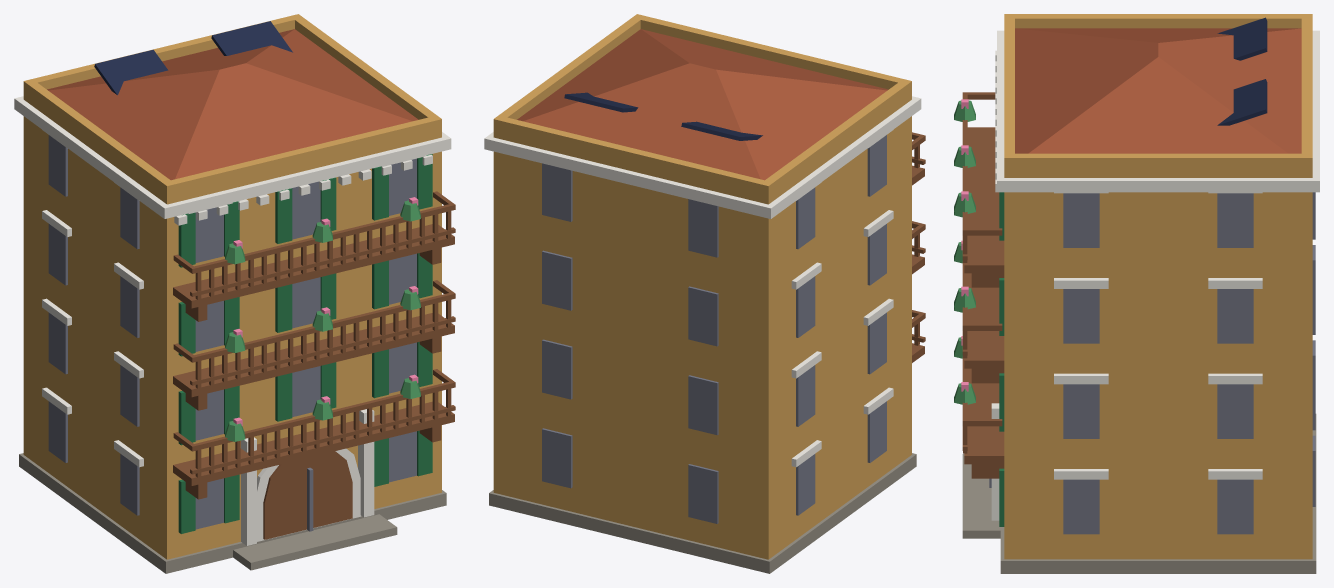
The model's file is house-1x1-4f-colonial-a-solar.glb.
3 views of the same model, side by side, from view 1: azimuth 30°, elevation 25°; view 2: azimuth 150°, elevation 25°; view 3: azimuth 270°, elevation 25° (orthographic). The views are drawn at different scales.
Visible parts, largest first — view 1: house-1x1-4f-colonial-a-solar; view 2: house-1x1-4f-colonial-a-solar; view 3: house-1x1-4f-colonial-a-solar.
Part boxes in pixels (left/top/right/bottom): house-1x1-4f-colonial-a-solar: left=14, top=14, right=455, bottom=573; house-1x1-4f-colonial-a-solar: left=484, top=14, right=925, bottom=573; house-1x1-4f-colonial-a-solar: left=954, top=14, right=1319, bottom=573.
Bounding box in the file's own units: 0.98 × 1.37 × 1.01.
1 material, 1 textured.
